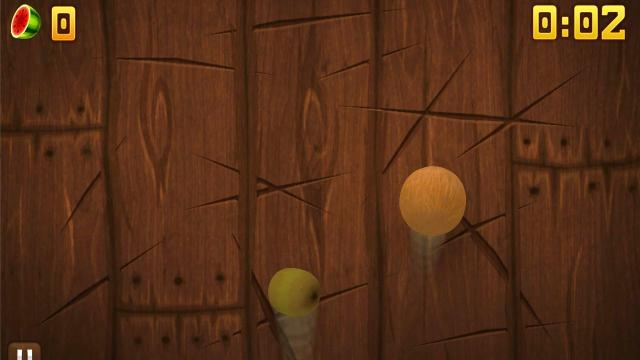fruit: (398, 165, 467, 236), (267, 267, 321, 317)
ignore: (10, 4, 42, 40)
